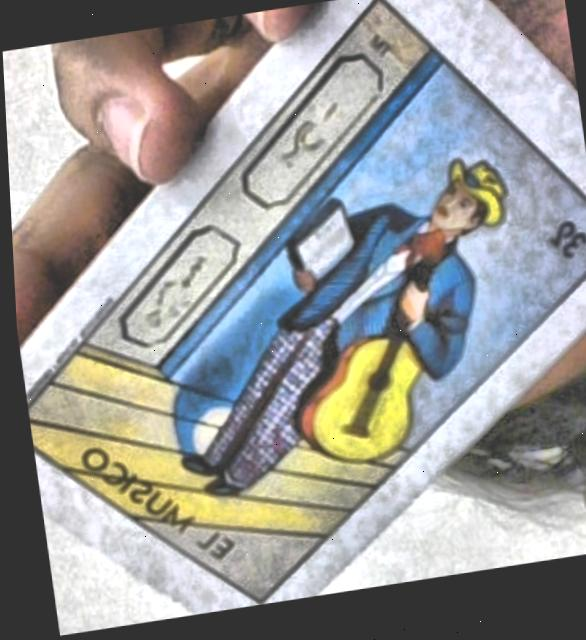El Musico: (23, 7, 586, 607)
